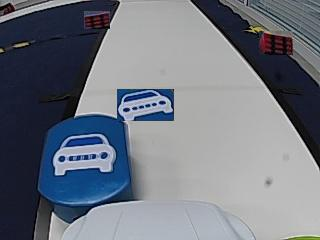safety: (52, 140, 119, 174)
